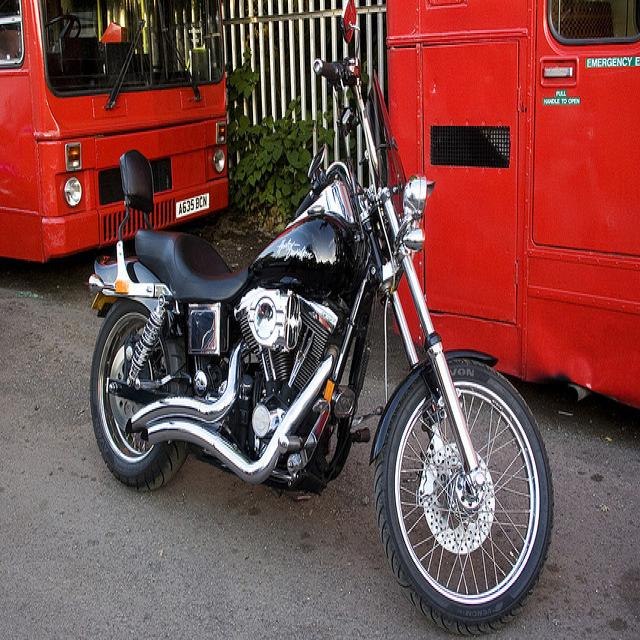motor: (88, 16, 557, 633)
